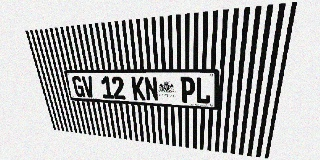1: (100, 76, 114, 99)
2: (111, 76, 125, 99)
G: (71, 76, 85, 97)
K: (131, 76, 146, 100)
L: (195, 77, 212, 104)
N: (144, 77, 158, 101)
P: (180, 77, 195, 103)
V: (81, 76, 95, 98)
